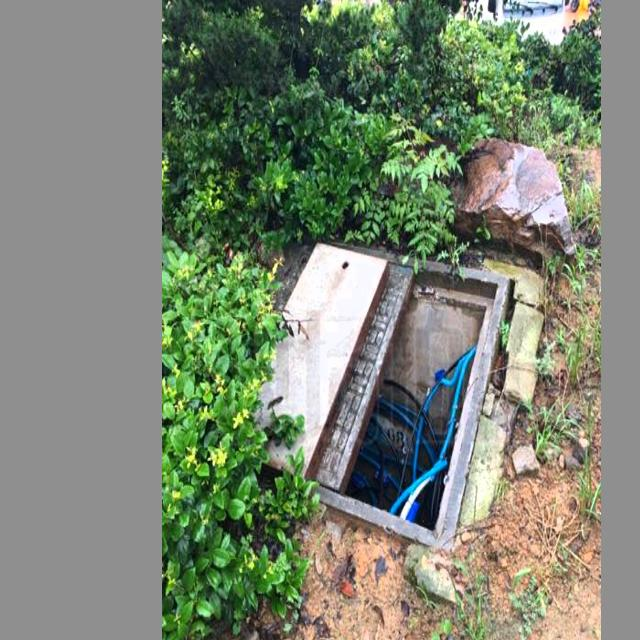uncovered: (252, 243, 515, 549)
